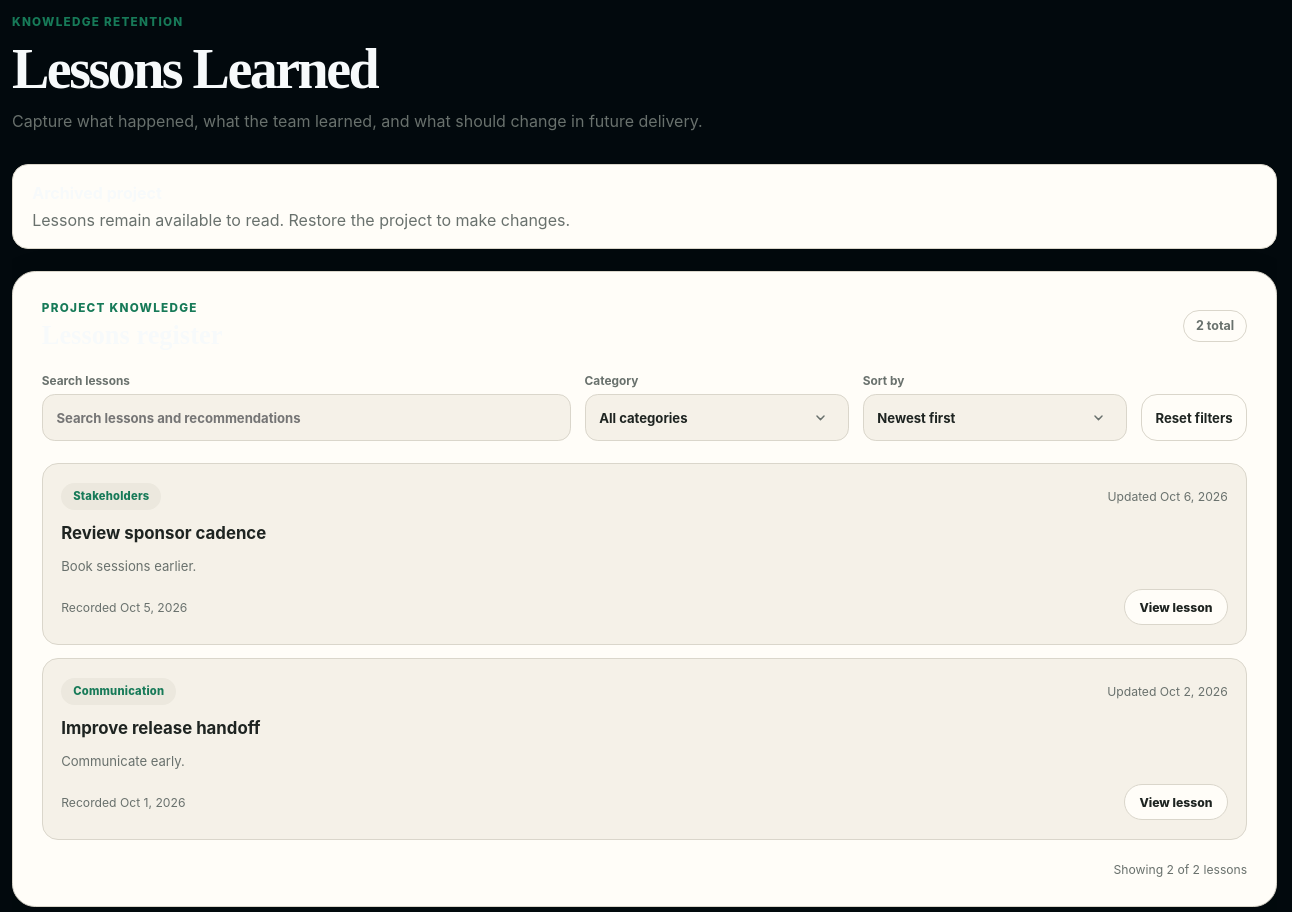
Test: Lessons Learned project workspace › shows a read-only detail and hides mutation controls for an archived project
What coordinates should you click on to do the following:
click the link "Improve release handoff"
I would click on:
 (161, 728)
Its box is [61,718,260,738].
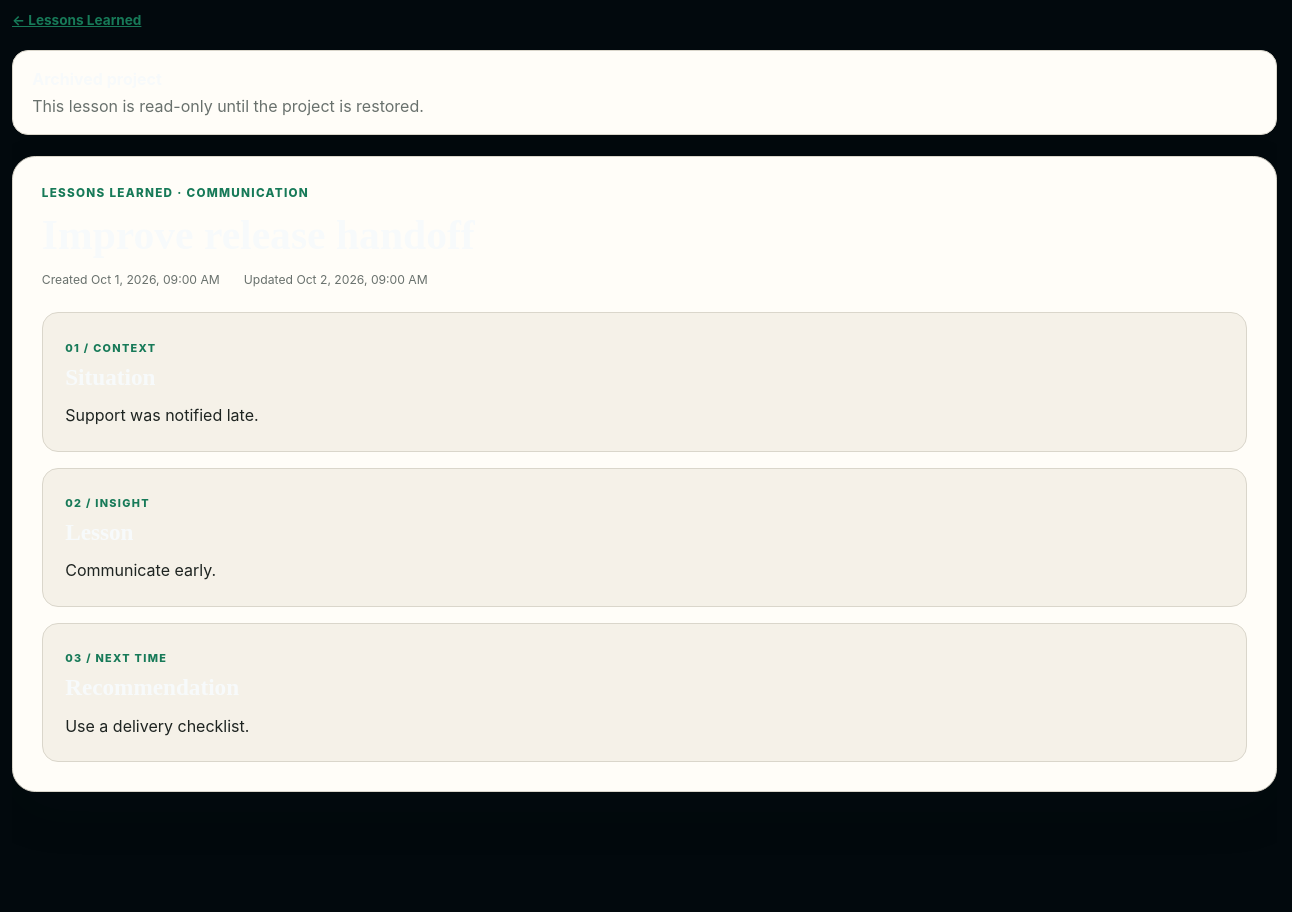
Expected: the text "Support was notified late." is shown, [65,405,259,425]
